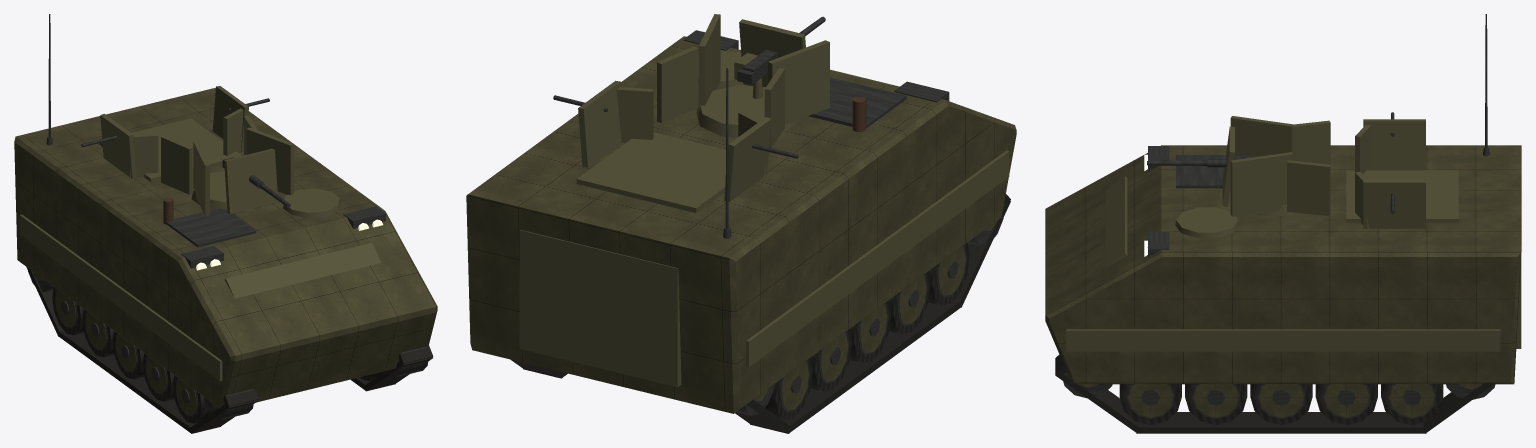
File: m113_acav_lod1.glb
3 views of the same model, side by side, from view 1: azimuth 30°, elevation 25°; view 2: azimuth 150°, elevation 25°; view 3: azimuth 270°, elevation 25° (orthographic). The views are drawn at different scales.
Visible parts, largest first — view 1: M113_ACAV; view 2: M113_ACAV; view 3: M113_ACAV.
Part boxes in pixels (x1,y1,x2,y2): M113_ACAV: (14, 14, 437, 433); M113_ACAV: (466, 14, 1016, 433); M113_ACAV: (1045, 14, 1521, 433).
Size of the model in its own units: 2.72 by 3.64 by 4.88.
7 materials, 3 textured.
